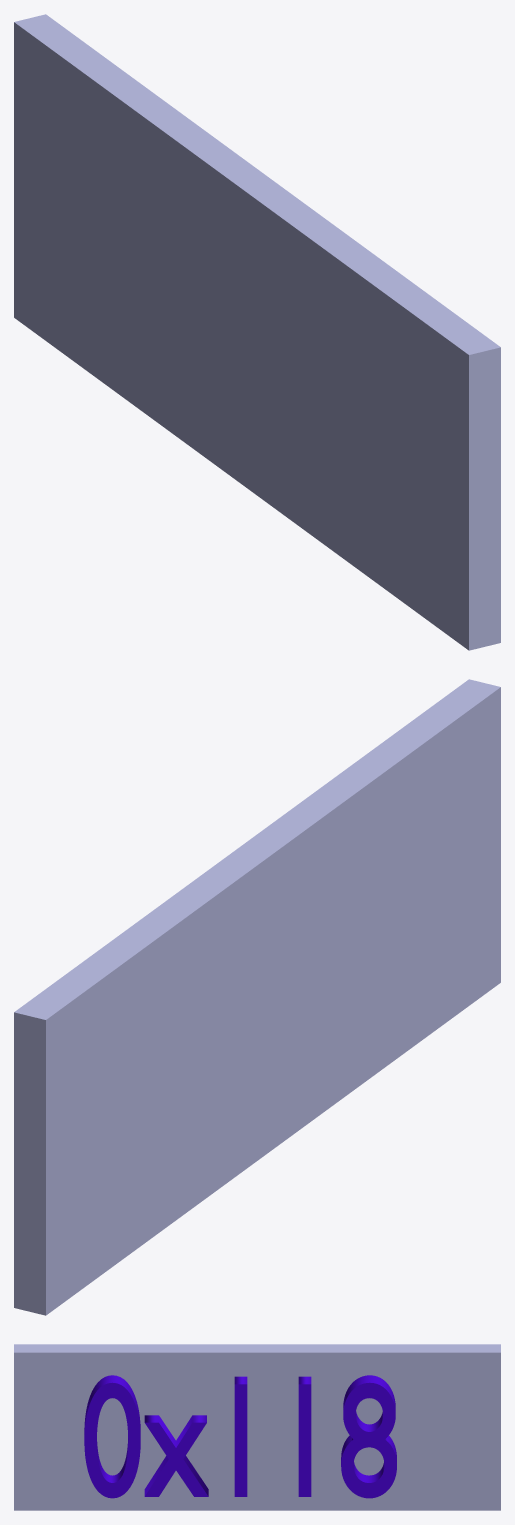
The picture shows the model from 3 angles, top to bottom: view 1: azimuth 30°, elevation 25°; view 2: azimuth 150°, elevation 25°; view 3: azimuth 270°, elevation 25°; orthographic projection. The views are drawn at different scales.
Parts seen in each view (by area): view 1: Cube; view 2: Cube; view 3: Cube, Text.
Part boxes in pixels (bbox=[...]): Cube: bbox=[14, 14, 500, 650]; Cube: bbox=[14, 679, 500, 1315]; Cube: bbox=[14, 1344, 500, 1510]; Text: bbox=[84, 1375, 396, 1498].
Size of the model in its own units: 2.65 by 12.33 by 34.39.
